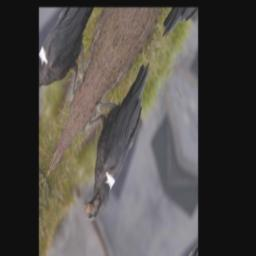Crow: (60, 28, 167, 235)
